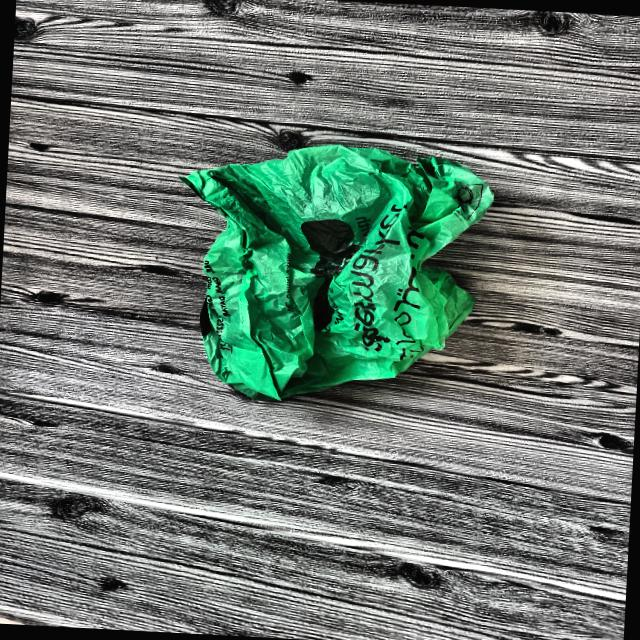plastic bag: (164, 137, 488, 402)
